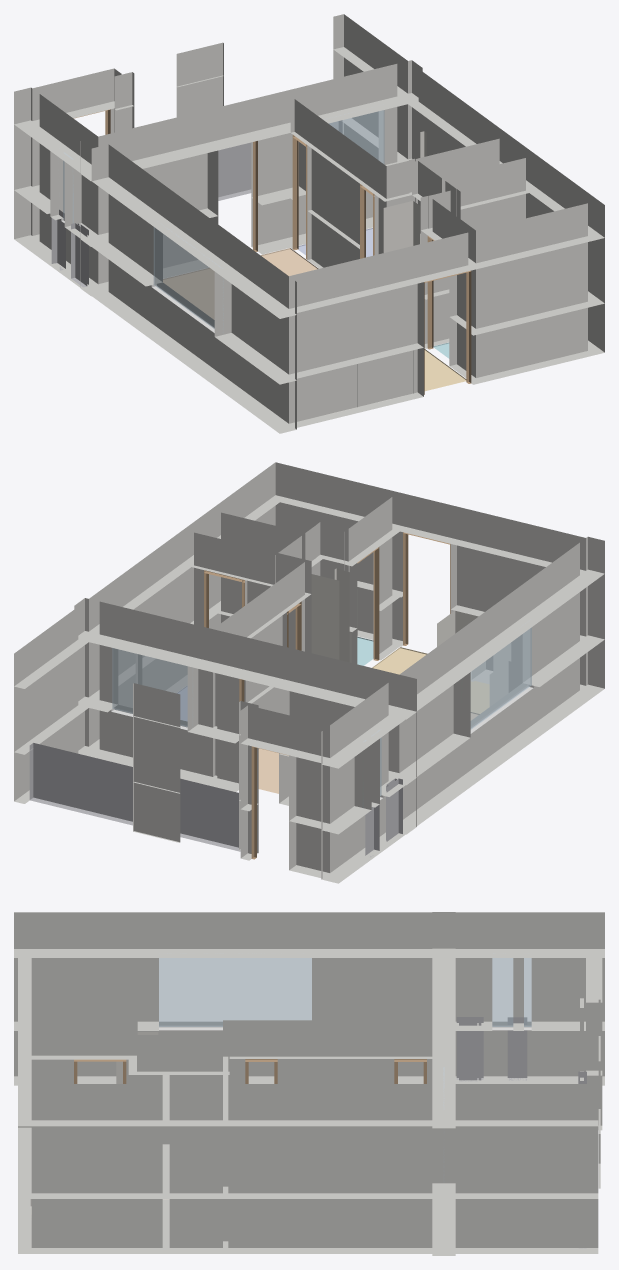
The picture shows the model from 3 angles, top to bottom: view 1: azimuth 30°, elevation 25°; view 2: azimuth 150°, elevation 25°; view 3: azimuth 270°, elevation 25°; orthographic projection. The views are drawn at different scales.
Parts seen in each view (by area): view 1: walls, window_3, railings, floor_0_Living_Room, furniture_1_closet, window_0, door_7, floor_2_Kitchen, door_1, door_9; view 2: walls, railings, window_3, window_0, furniture_1_closet, floor_2_Kitchen, furniture_2_closet, furniture_4_appliance, floor_0_Living_Room, door_4, door_1, furniture_6_appliance (+2 smaller); view 3: walls, window_3, railings, window_8, window_10.
Part boxes in pixels (x1=…): walls: x1=14, y1=14, x2=604, y2=433; window_3: x1=153, y1=227, x2=223, y2=332; railings: x1=51, y1=120, x2=342, y2=287; floor_0_Living_Room: x1=163, y1=248, x2=318, y2=319; furniture_1_closet: x1=383, y1=201, x2=420, y2=252; window_0: x1=324, y1=110, x2=384, y2=164; door_7: x1=292, y1=135, x2=307, y2=259; floor_2_Kitchen: x1=424, y1=349, x2=466, y2=391; door_1: x1=424, y1=270, x2=471, y2=394; door_9: x1=360, y1=184, x2=374, y2=258; walls: x1=14, y1=462, x2=604, y2=883; railings: x1=29, y1=743, x2=402, y2=857; window_3: x1=470, y1=623, x2=531, y2=729; window_0: x1=112, y1=648, x2=187, y2=726; furniture_1_closet: x1=311, y1=574, x2=339, y2=659; floor_2_Kitchen: x1=372, y1=647, x2=489, y2=713; furniture_2_closet: x1=334, y1=568, x2=349, y2=662; furniture_4_appliance: x1=490, y1=661, x2=522, y2=706; floor_0_Living_Room: x1=258, y1=712, x2=479, y2=793; door_4: x1=357, y1=547, x2=379, y2=660; door_1: x1=403, y1=532, x2=450, y2=645; furniture_6_appliance: x1=437, y1=610, x2=488, y2=681; walls: x1=14, y1=912, x2=604, y2=1255; window_3: x1=159, y1=958, x2=311, y2=1026; railings: x1=456, y1=1017, x2=586, y2=1248; window_8: x1=492, y1=953, x2=513, y2=1026; window_10: x1=524, y1=958, x2=531, y2=1026.
Bounding box in the file's own units: 6.34 × 2.72 × 8.81.
